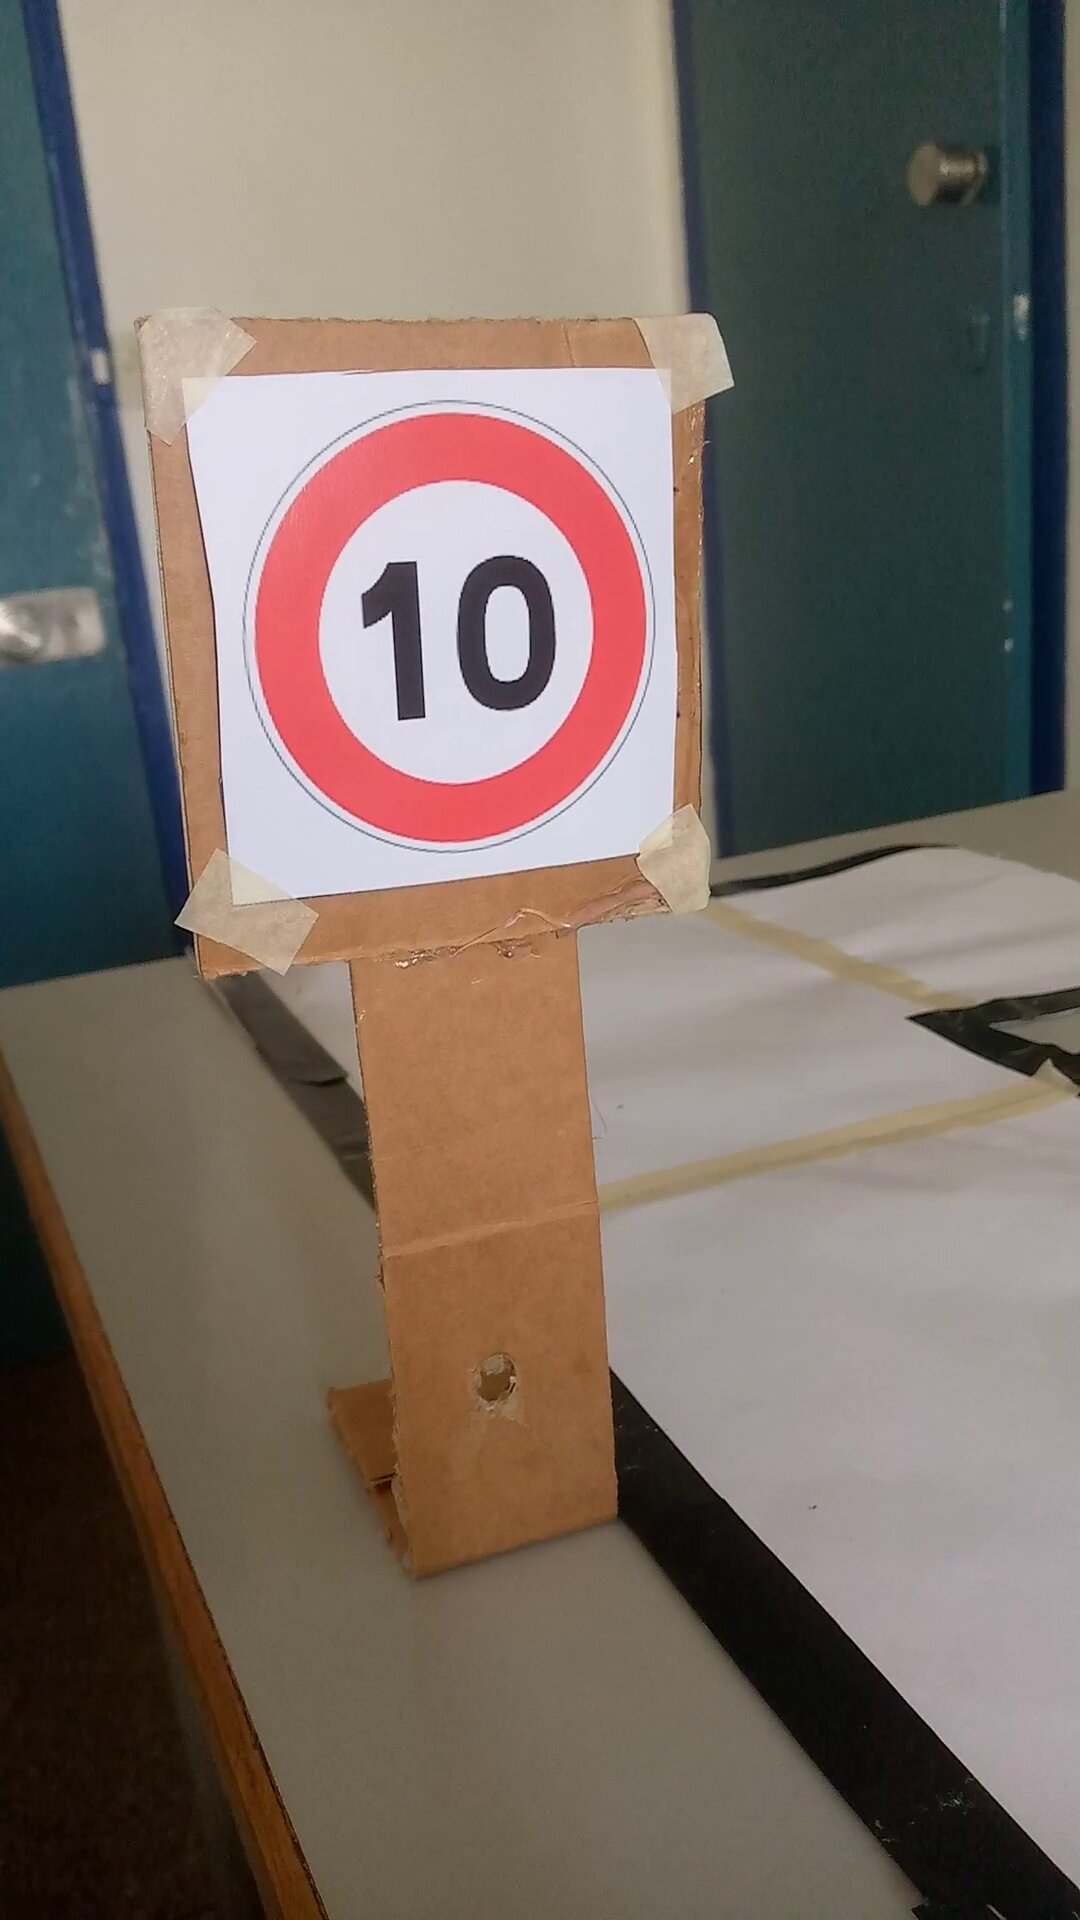panel011: (175, 367, 680, 877)
